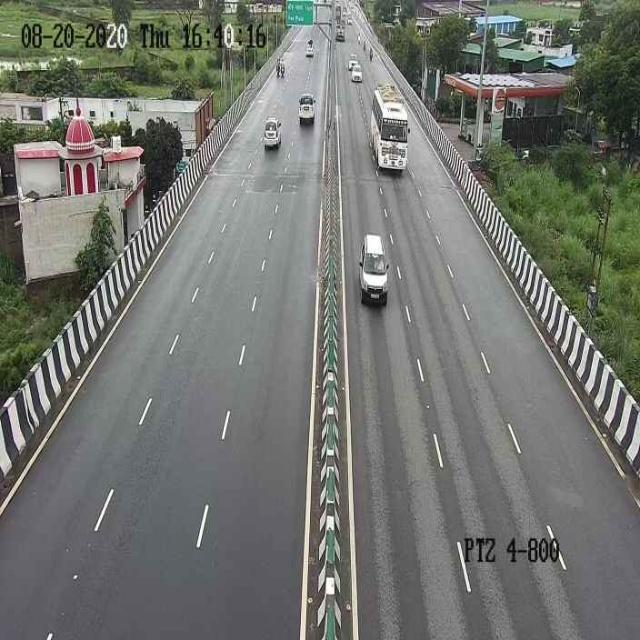car: (356, 228, 390, 307), (256, 114, 285, 154), (294, 91, 319, 126)
